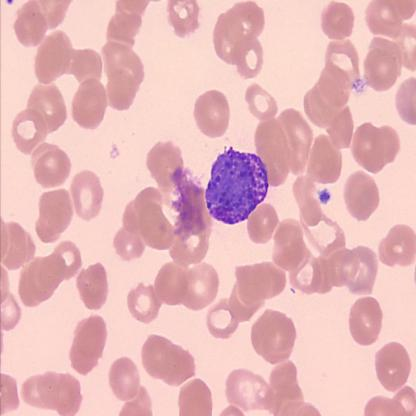Basophil: (204, 142, 270, 227)
